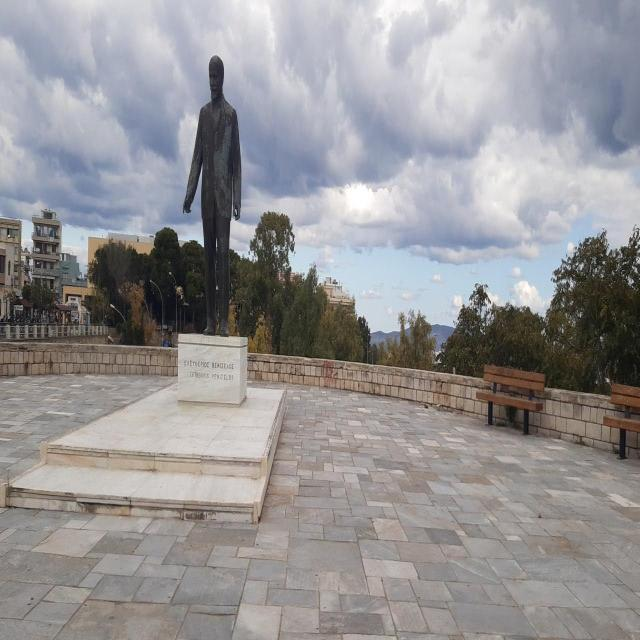Venizelos: (185, 56, 243, 338)
